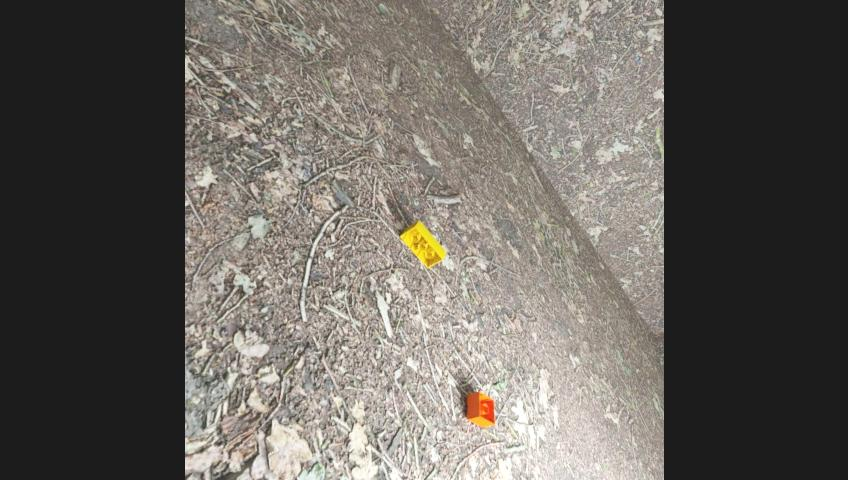2x2_orange: (466, 391, 495, 426)
4x2_yellow: (400, 220, 446, 267)
